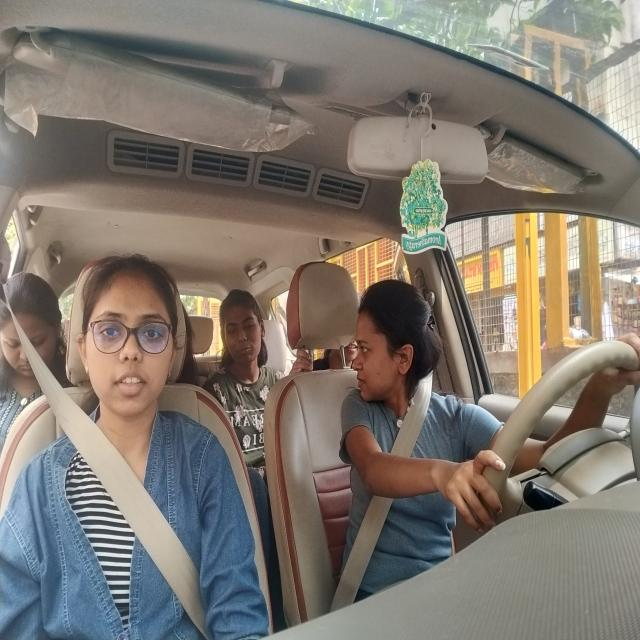LeftRight: (345, 292, 441, 405)
person: (81, 266, 179, 416), (3, 283, 61, 383), (219, 286, 263, 373)
